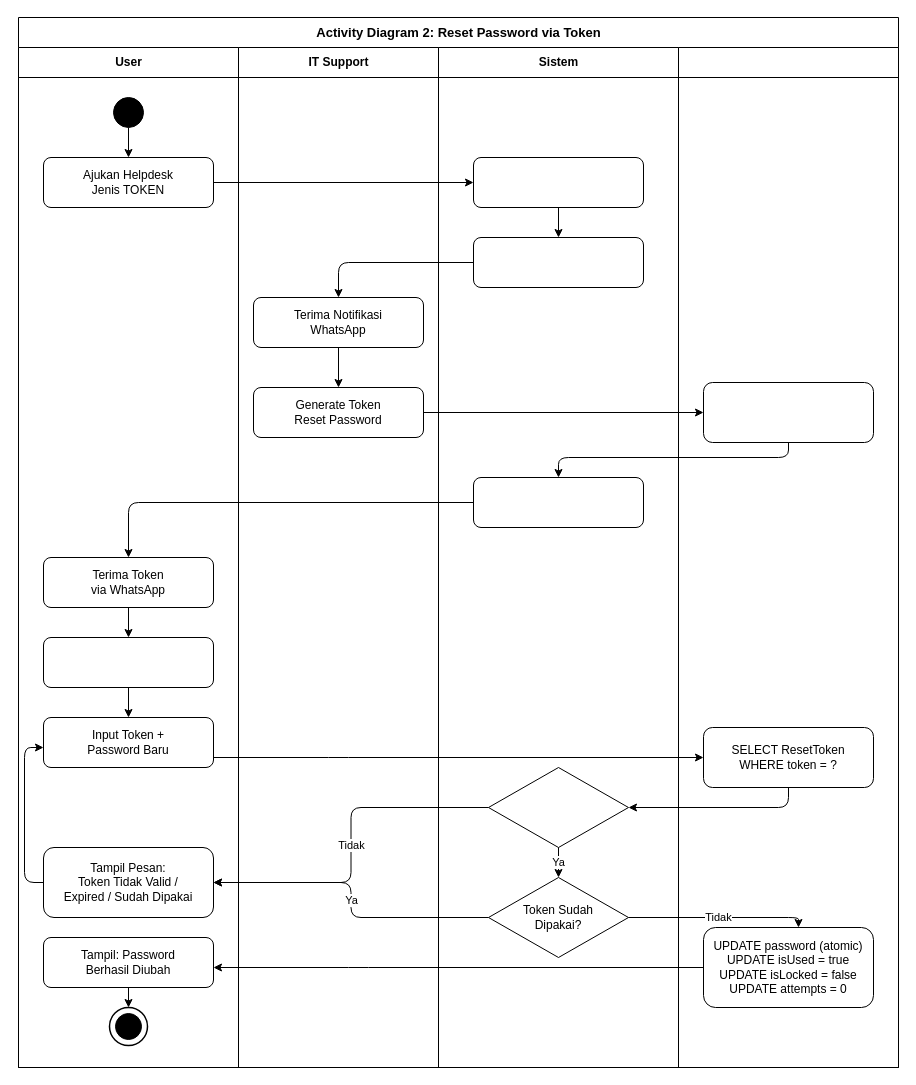
The diagram is 916 pixels wide and 1085 high, and some of its shapes have lost their labels. The box of each missing label's shape, as (x1, y1, x2, y2) in pixels:
Buka Halaman Reset Password: (42, 636, 214, 688)
Database: (678, 46, 898, 1068)
INSERT ResetToken (expiry: 1 jam): (702, 382, 874, 442)
INSERT SupportRequest: (472, 156, 644, 208)
Kirim Notifikasi WA ke IT Support: (472, 236, 644, 288)
Kirim Token via WhatsApp ke User: (472, 476, 644, 528)
Token Valid & Belum Expired?: (488, 766, 628, 848)
